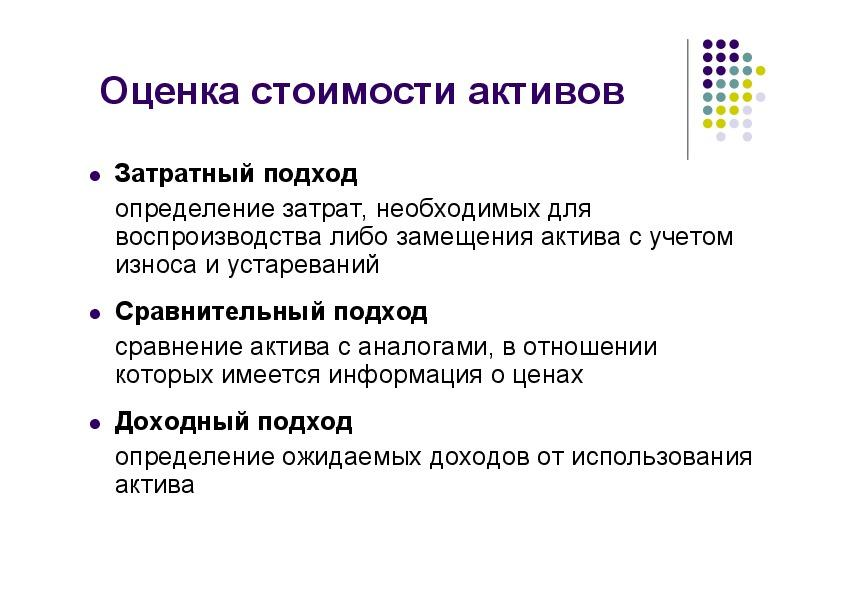paragraph: (108, 194, 748, 279), (104, 442, 761, 518), (108, 332, 723, 402)
subtitle: (113, 292, 433, 330), (108, 151, 378, 190), (107, 404, 360, 443)
title: (91, 62, 663, 125)
